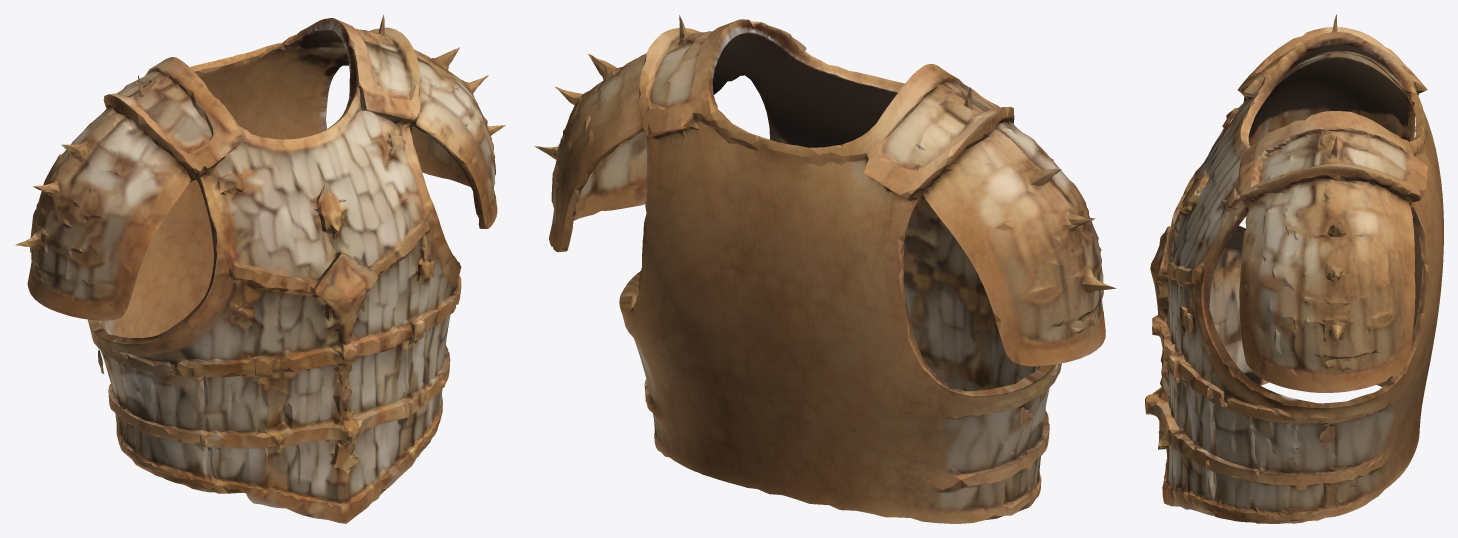
3 views of the same model, side by side, from view 1: azimuth 30°, elevation 25°; view 2: azimuth 150°, elevation 25°; view 3: azimuth 270°, elevation 25° (orthographic). The views are drawn at different scales.
Visible parts, largest first — view 1: BarkArmor; view 2: BarkArmor; view 3: BarkArmor.
Part boxes in pixels (<box>): BarkArmor: <box>14,14,505,523</box>; BarkArmor: <box>534,15,1116,523</box>; BarkArmor: <box>1145,14,1443,523</box>.
Bounding box in the file's own units: 1.9 × 1.55 × 0.9755.
1 material, 1 textured.
